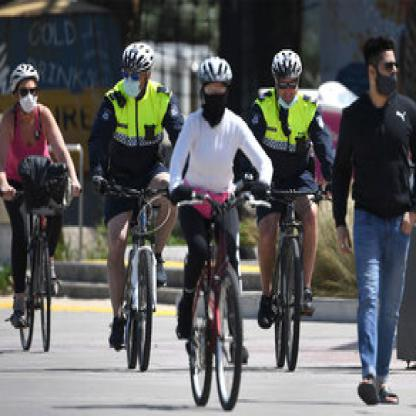person: (84, 40, 181, 356), (334, 35, 414, 408), (168, 55, 261, 358), (245, 47, 336, 333), (0, 63, 83, 354)
